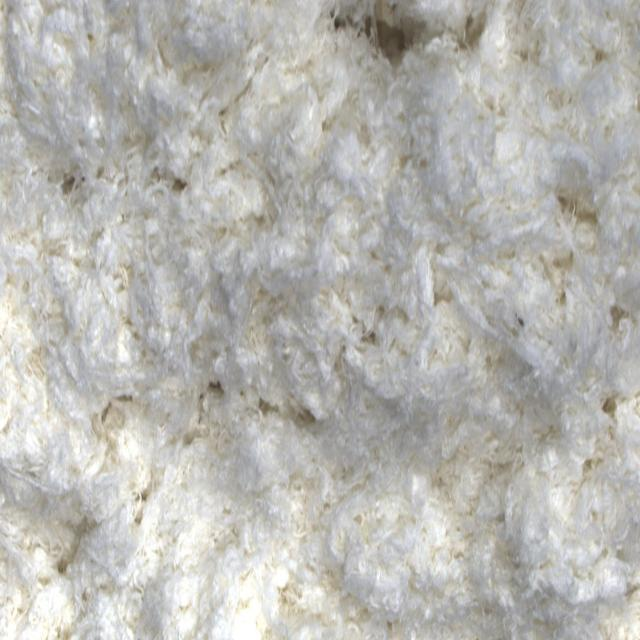dust: (369, 4, 410, 61)
